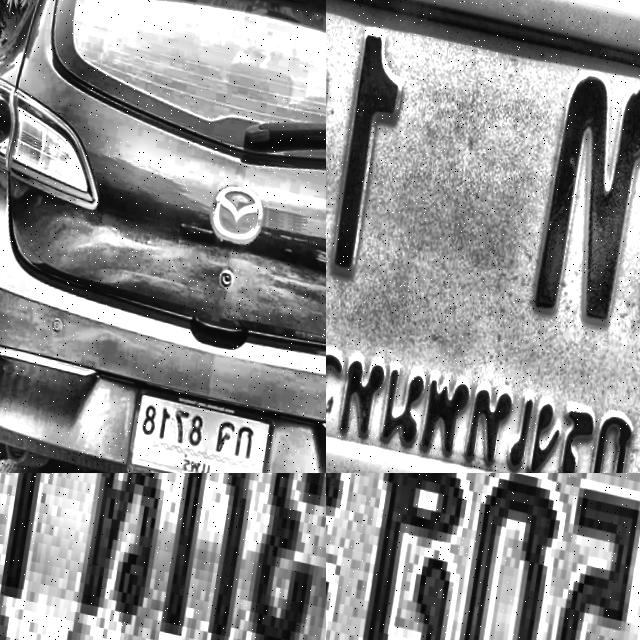license-plate: (326, 0, 640, 473), (0, 473, 326, 640), (326, 473, 640, 640), (126, 381, 276, 473)
